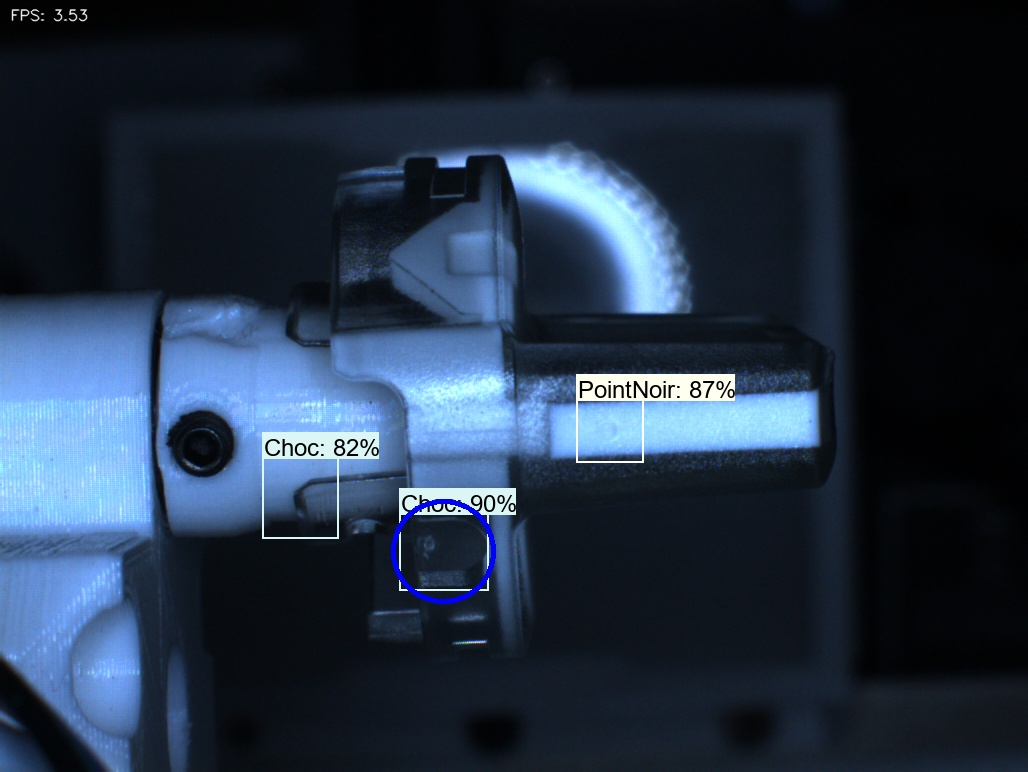DentOk: (365, 211, 441, 320)
